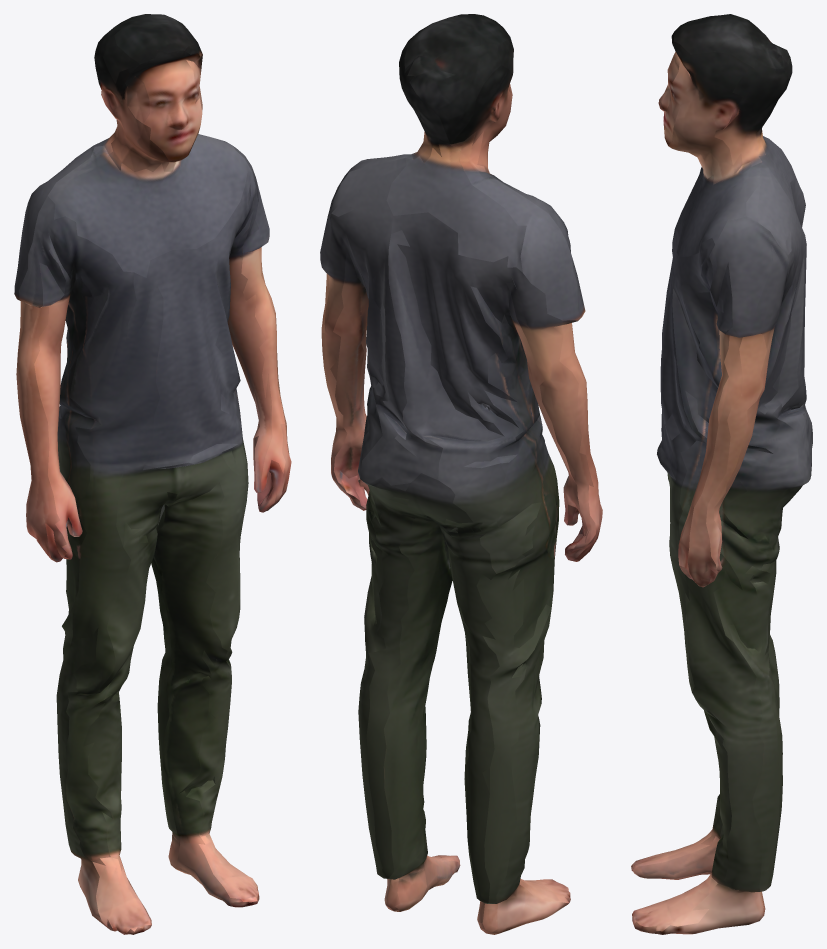
Rendered from ghost_float.glb.
The picture shows the model from 3 angles, left to right: view 1: azimuth 30°, elevation 25°; view 2: azimuth 150°, elevation 25°; view 3: azimuth 270°, elevation 25°; orthographic projection. The views are drawn at different scales.
Parts seen in each view (by area): view 1: geometry_0; view 2: geometry_0; view 3: geometry_0.
Part boxes in pixels (box(x1,y1,x2,y2)): geometry_0: box(14, 14, 291, 934); geometry_0: box(320, 14, 602, 934); geometry_0: box(631, 14, 812, 934).
Bounding box in the file's own units: 0.5464 × 1.75 × 0.3282.
1 material, 1 textured.
